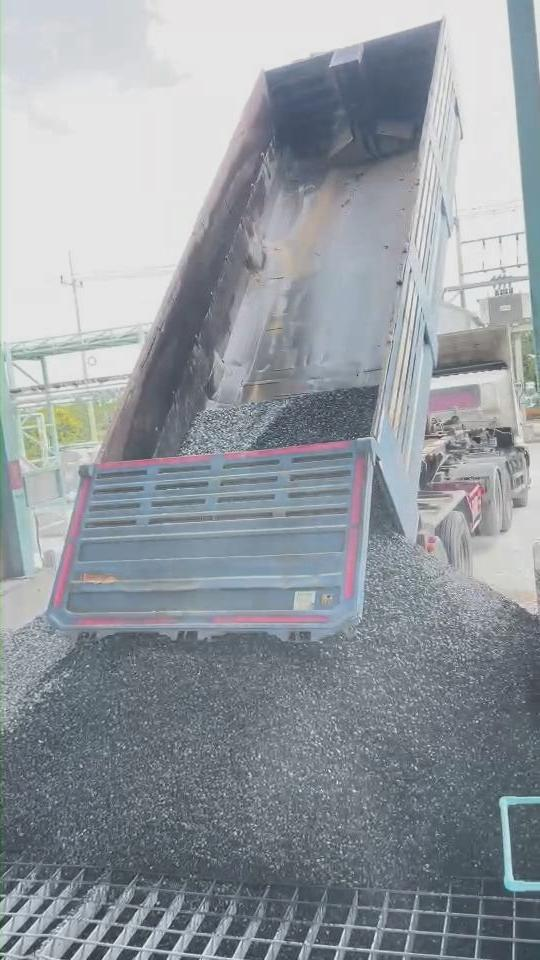gravel: (3, 521, 539, 885), (178, 388, 377, 454), (3, 615, 73, 730)
